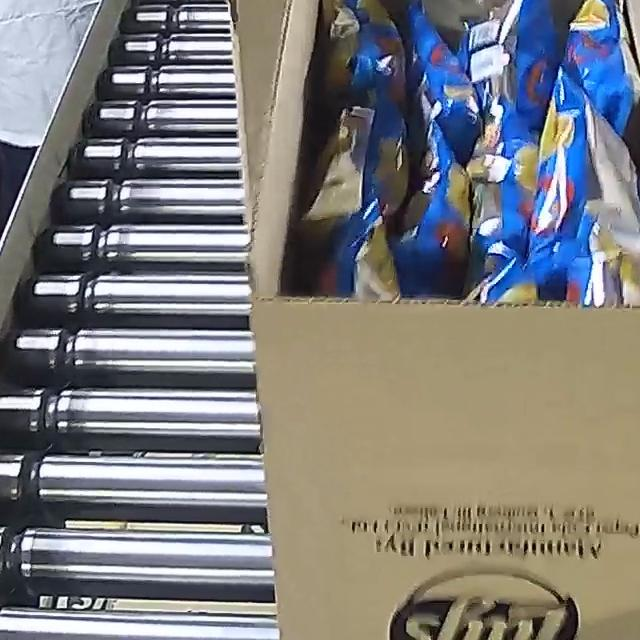paprika: (294, 0, 640, 307)
